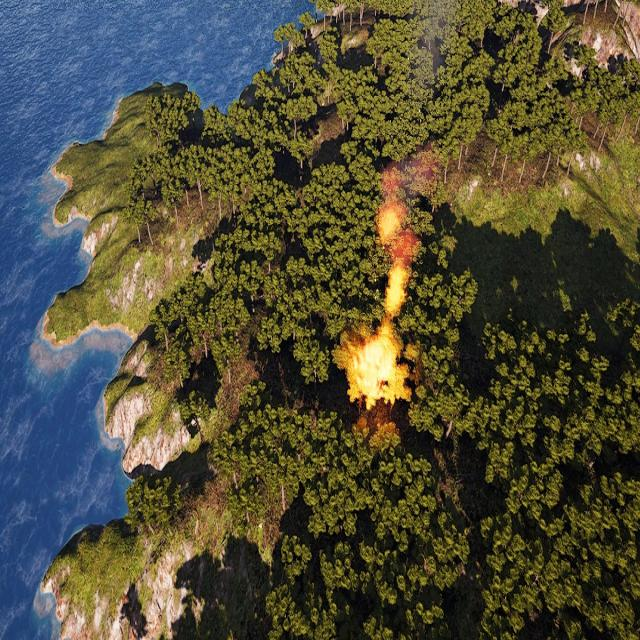fire: (346, 325, 408, 410)
smoke: (377, 3, 453, 317)
